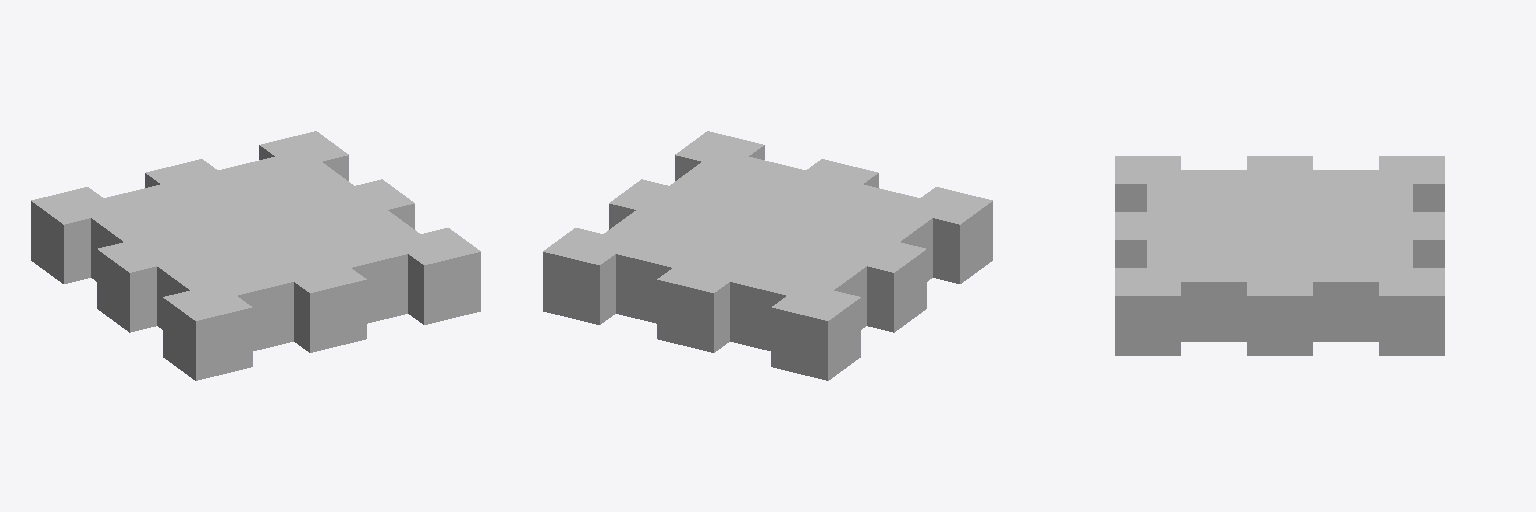
Rendered from grinder_gear.obj.
3 renders of one model, left to right at view 1: azimuth 30°, elevation 25°; view 2: azimuth 150°, elevation 25°; view 3: azimuth 270°, elevation 25°, orthographic.
Parts seen in each view (by area): view 1: pCube2; view 2: pCube2; view 3: pCube2.
Part boxes in pixels (x1,y1,x2,y2): pCube2: (31, 131, 480, 380); pCube2: (543, 131, 992, 380); pCube2: (1115, 156, 1444, 355).
Bounding box in the file's own units: 1 × 0.2 × 1.